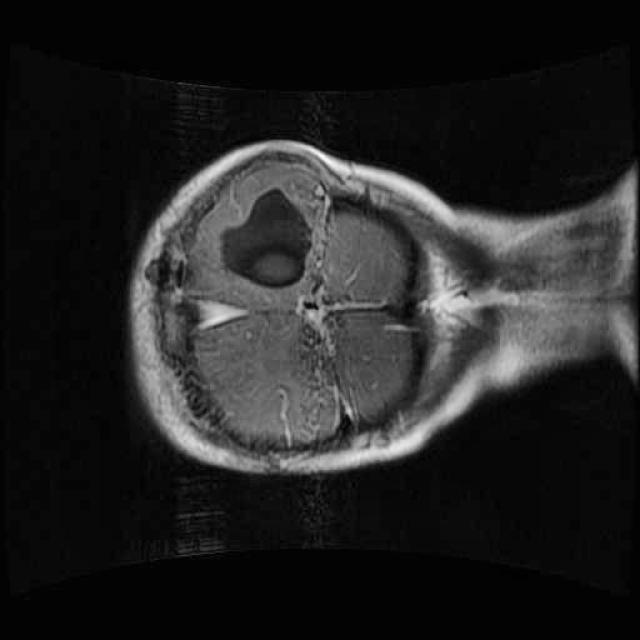Non-Tumor: (210, 171, 331, 308)
